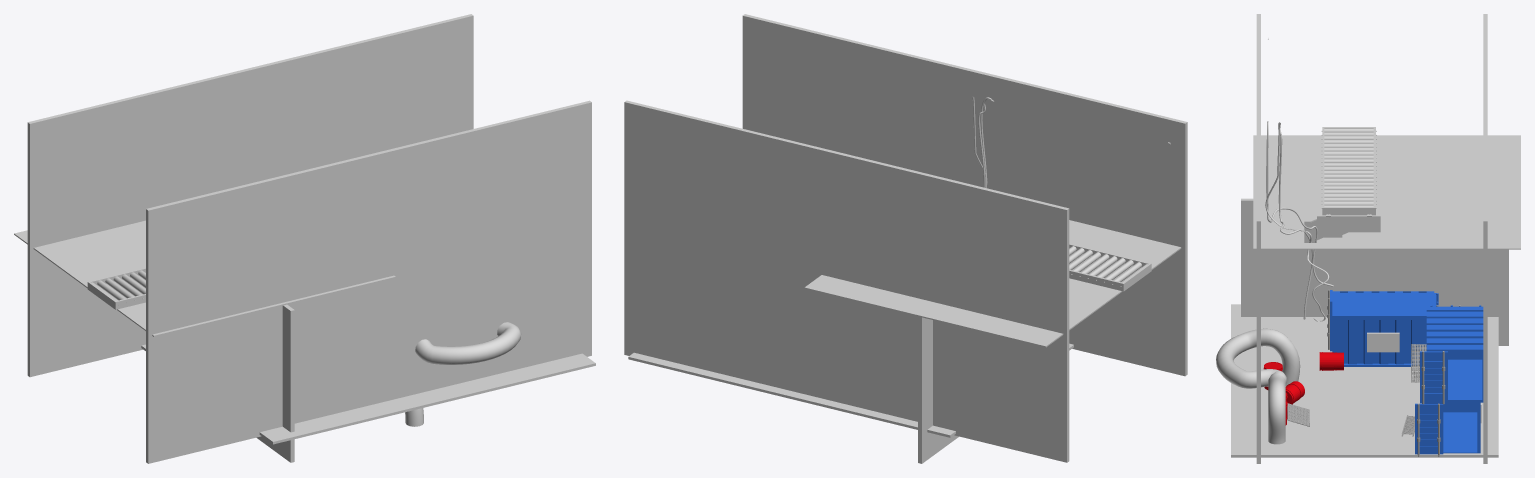
File: level_1_scenery.fbx
3 views of the same model, side by side, from view 1: azimuth 30°, elevation 25°; view 2: azimuth 150°, elevation 25°; view 3: azimuth 270°, elevation 25° (orthographic). The views are drawn at different scales.
Parts seen in each view (by area): view 1: Cube.010, Cube.026, Plane.002, Cube.006, BézierCurve.003, Cube.016, Cube.014; view 2: Cube.026, Cube.010, Plane.002, Cube.006, Cube.014, Cube.016; view 3: Plane.002, Cube.006, Cube.016, Cube.007, Cube.011, Cube.014, BézierCurve.003, Cube.001, Cube.010, Cube.026, BézierCurve.002, BézierCurve (+5 smaller).
Part boxes in pixels (<box>): Cube.010: <box>146,100,591,463</box>; Cube.026: <box>27,14,473,377</box>; Plane.002: <box>14,220,395,336</box>; Cube.006: <box>141,344,595,444</box>; BézierCurve.003: <box>405,322,521,426</box>; Cube.016: <box>256,304,294,462</box>; Cube.014: <box>87,267,145,309</box>; Cube.026: <box>624,100,1069,462</box>; Cube.010: <box>742,14,1187,376</box>; Plane.002: <box>804,220,1181,347</box>; Cube.006: <box>628,343,1073,437</box>; Cube.014: <box>1069,243,1151,291</box>; Cube.016: <box>918,316,958,463</box>; Plane.002: <box>1253,135,1520,249</box>; Cube.006: <box>1231,304,1498,457</box>; Cube.016: <box>1241,198,1508,345</box>; Cube.007: <box>1327,289,1438,366</box>; Cube.011: <box>1420,305,1483,404</box>; Cube.014: <box>1321,127,1376,215</box>; BézierCurve.003: <box>1216,328,1300,444</box>; Cube.001: <box>1415,402,1481,456</box>; Cube.010: <box>1256,14,1260,463</box>; Cube.026: <box>1483,14,1487,463</box>; BézierCurve.002: <box>1266,38,1333,286</box>; BézierCurve: <box>1265,123,1329,321</box>.
Size of the model in its own units: 11000 by 6859 by 6832.
